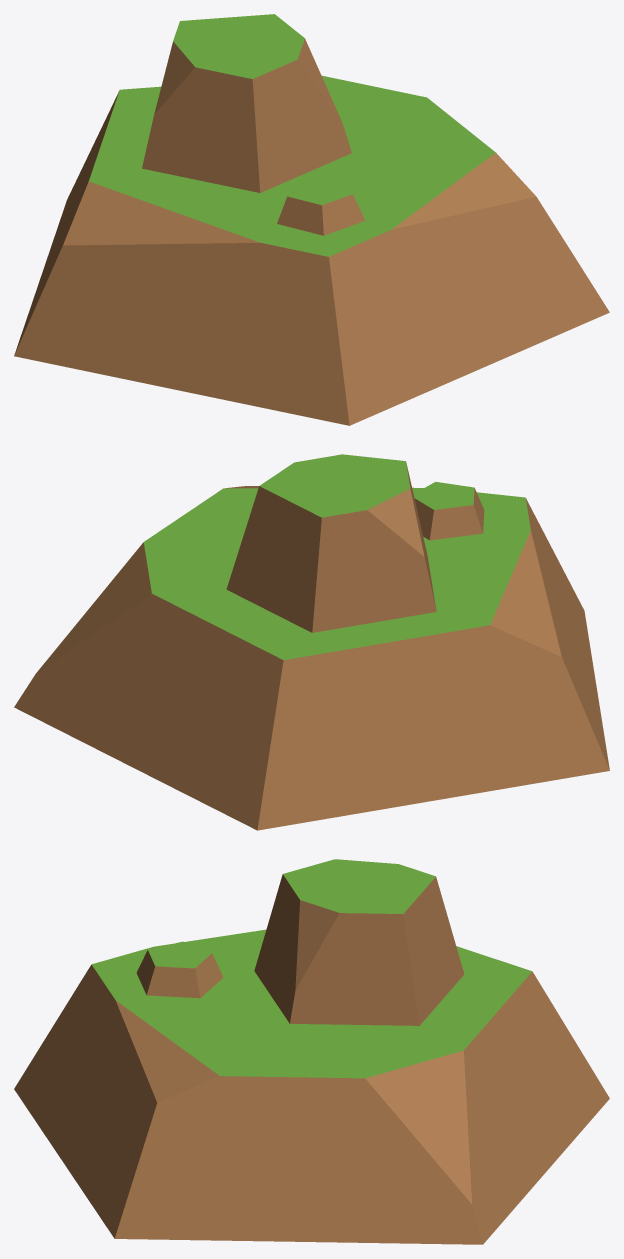
The model's file is rock_smallTopB.glb.
3 renders of one model, top to bottom at view 1: azimuth 30°, elevation 25°; view 2: azimuth 150°, elevation 25°; view 3: azimuth 270°, elevation 25°, orthographic. The views are drawn at different scales.
Parts seen in each view (by area): view 1: rock_smallTopB; view 2: rock_smallTopB; view 3: rock_smallTopB.
Boxes of the visible parts, x1,y1,x2,y2 form: rock_smallTopB: (14, 14, 609, 425); rock_smallTopB: (14, 454, 609, 830); rock_smallTopB: (14, 859, 609, 1244).
Bounding box in the file's own units: 0.6221 × 0.28 × 0.6463.
